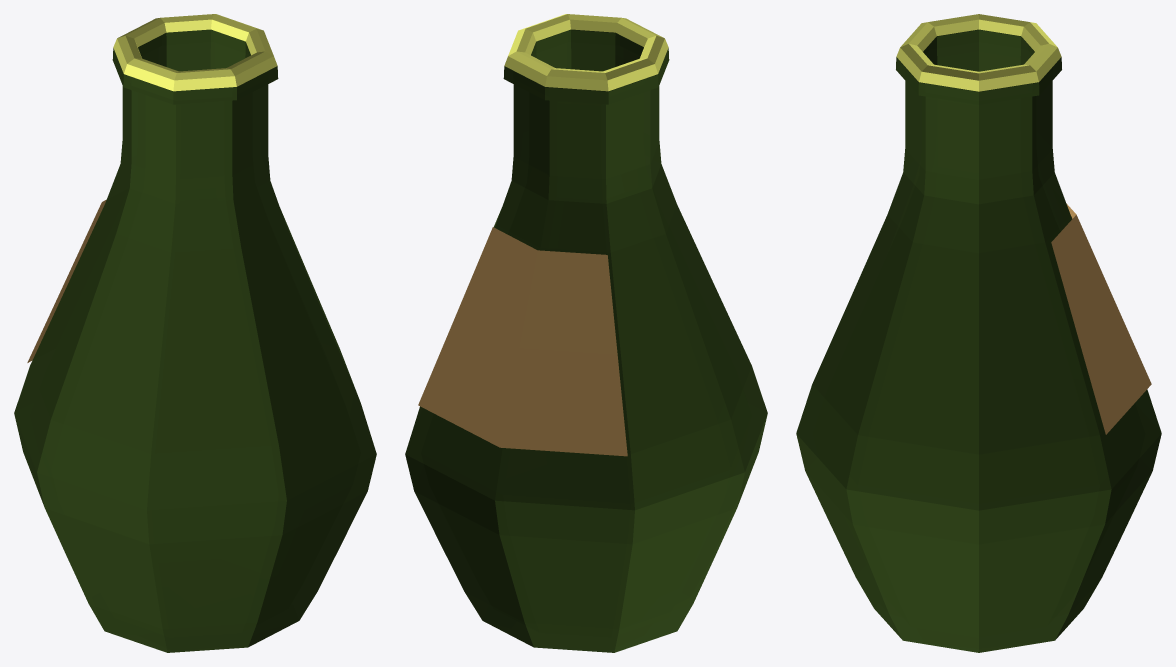
File: Vase 7.fbx
The picture shows the model from 3 angles, left to right: view 1: azimuth 30°, elevation 25°; view 2: azimuth 150°, elevation 25°; view 3: azimuth 270°, elevation 25°; orthographic projection.
Visible parts, largest first — view 1: Node 0; view 2: Node 0; view 3: Node 0.
Boxes of the visible parts, x1,y1,x2,y2 form: Node 0: [14, 14, 376, 652]; Node 0: [405, 14, 767, 652]; Node 0: [796, 14, 1161, 652].
Bounding box in the file's own units: 0.2949 × 0.5156 × 0.2949.
